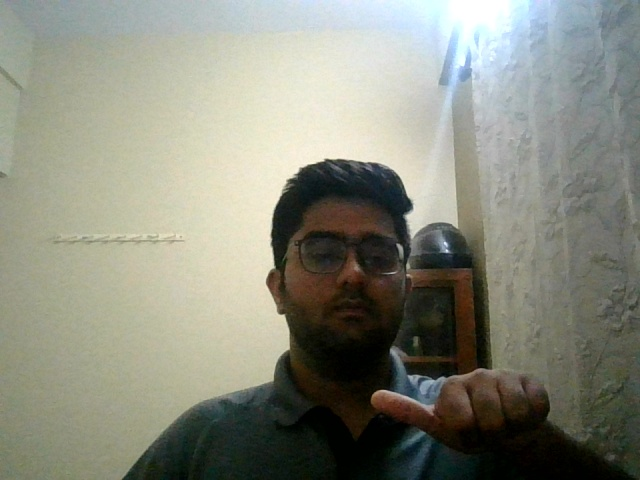Yes: (375, 351, 578, 468)
